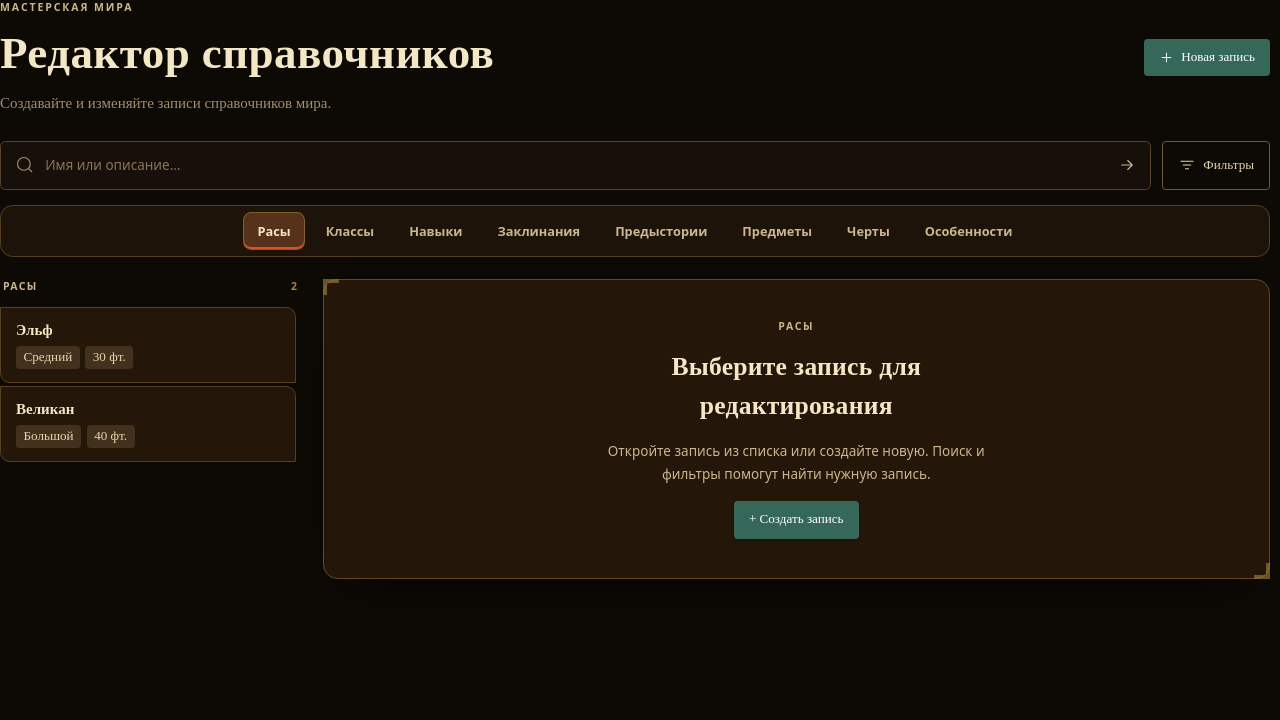
Test case: GmEditorPage › filters races by size through the filter modal
Expected: the button "Эльф Средний 30 фт." is shown, top-left (0, 307), bottom-right (296, 383)
Click the button with aria-label "Открыть фильтры" at point(1216, 165), box top-left (1162, 141), bottom-right (1270, 190)
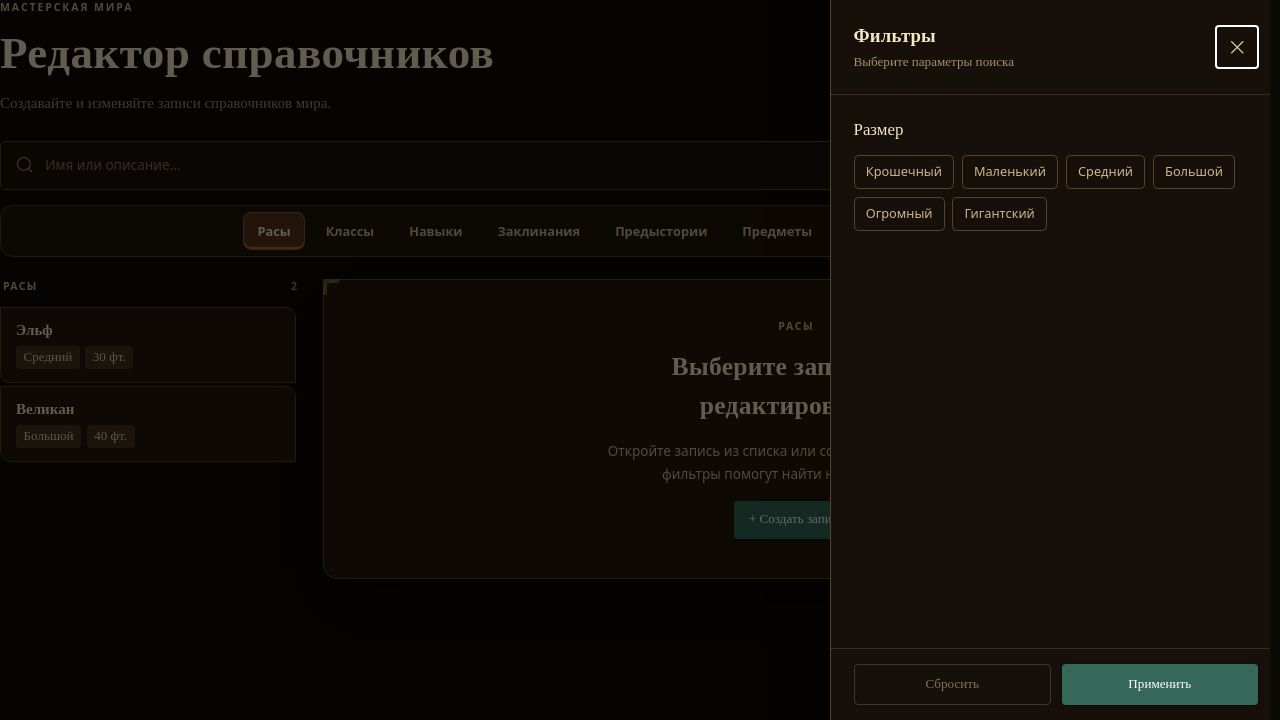
Expected: the text "Размер" is shown, top-left (854, 117), bottom-right (903, 144)
Click the button "Большой" at point(1194, 172), box top-left (1153, 155), bottom-right (1235, 189)
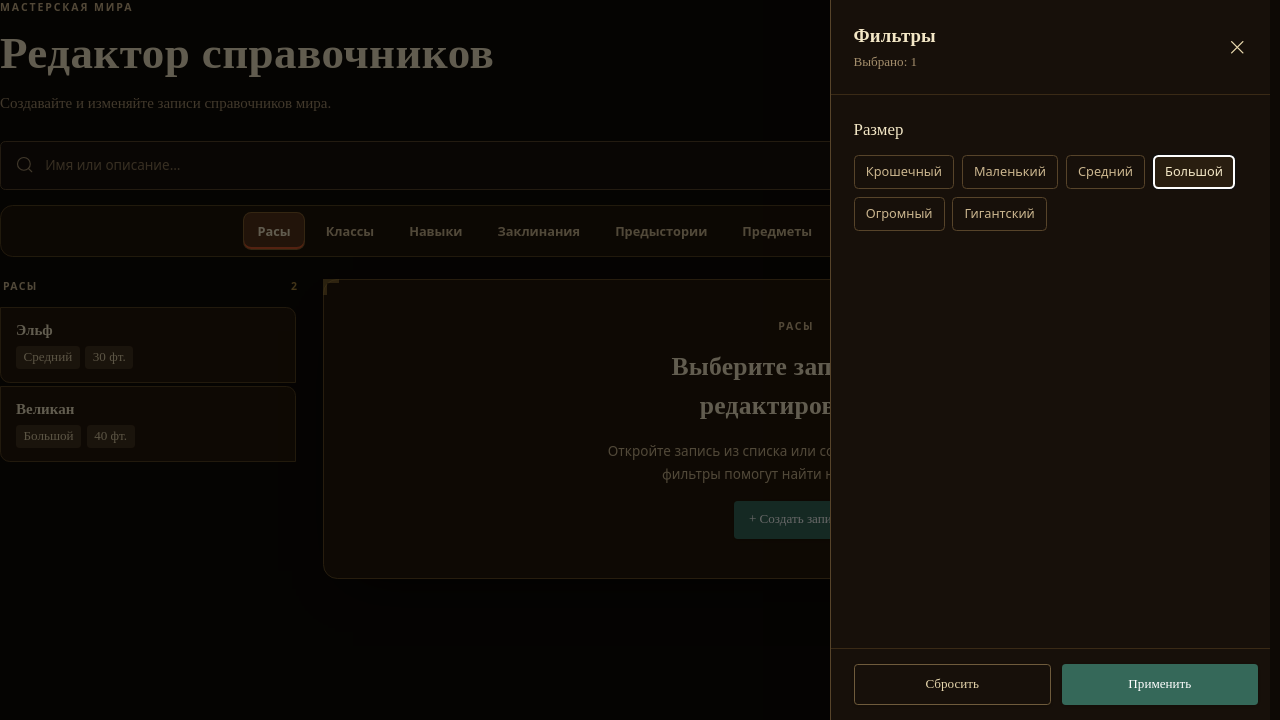
Click the button "Применить" at point(1160, 684), box top-left (1062, 664), bottom-right (1258, 705)
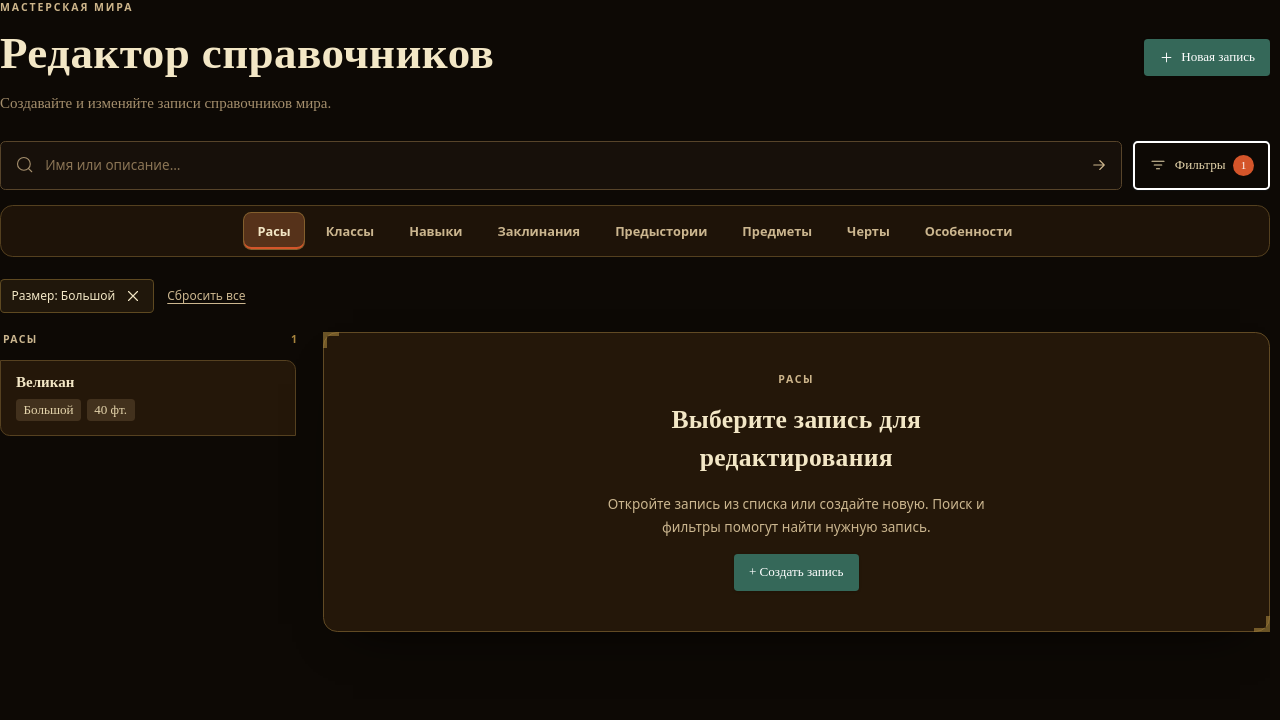
Expected: the button "Великан Большой 40 фт." is shown, top-left (0, 360), bottom-right (296, 436)
Expected: the button "Эльф" is gone
